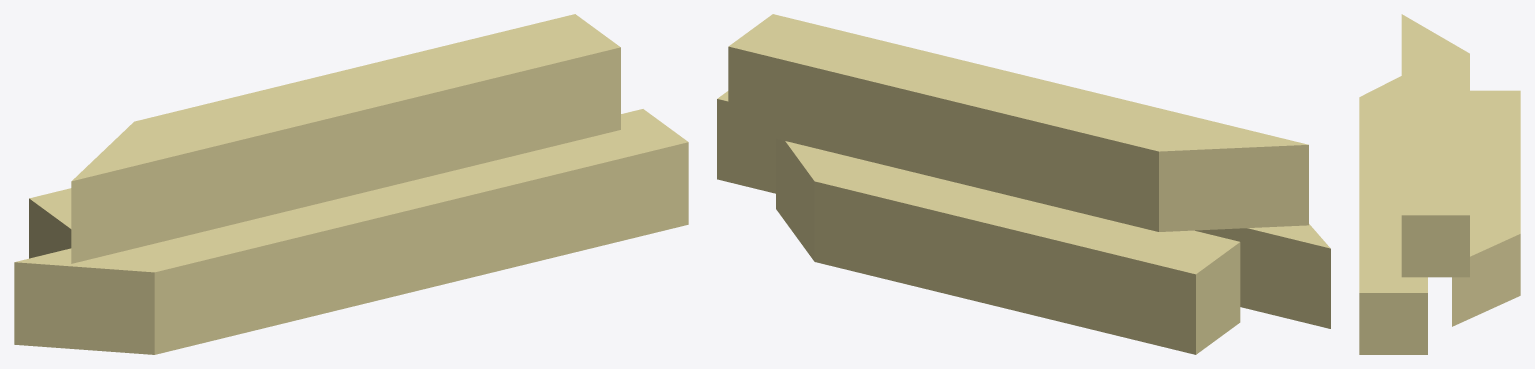
File: chips.fbx
3 renders of one model, left to right at view 1: azimuth 30°, elevation 25°; view 2: azimuth 150°, elevation 25°; view 3: azimuth 270°, elevation 25°, orthographic. The views are drawn at different scales.
Visible parts, largest first — view 1: Cube; view 2: Cube; view 3: Cube.
Part boxes in pixels (box(x1,y1,x2,y2)): Cube: box(14, 14, 688, 354); Cube: box(717, 14, 1330, 354); Cube: box(1359, 14, 1520, 354).
Size of the model in its own units: 1055 by 267 by 312.
